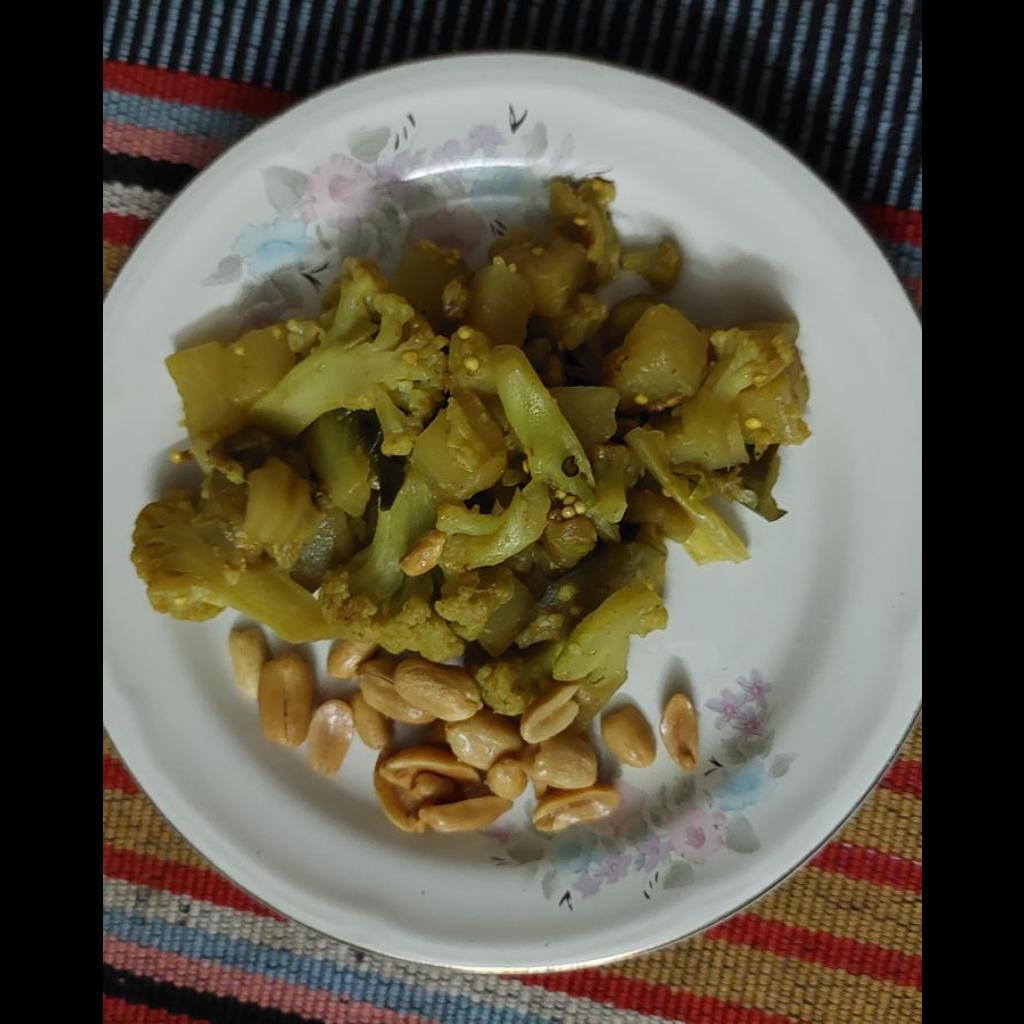badam: (229, 626, 612, 831), (600, 703, 654, 767), (660, 693, 697, 769)
vegetable: (128, 169, 816, 718)
